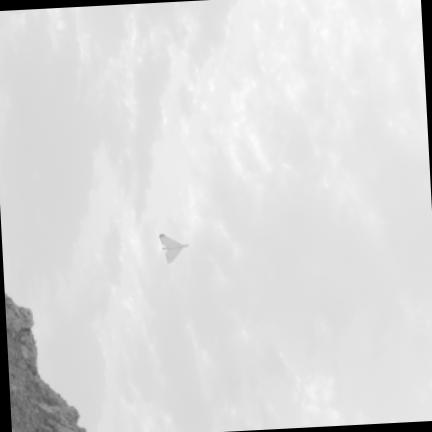Shahed: (158, 234, 188, 263)
